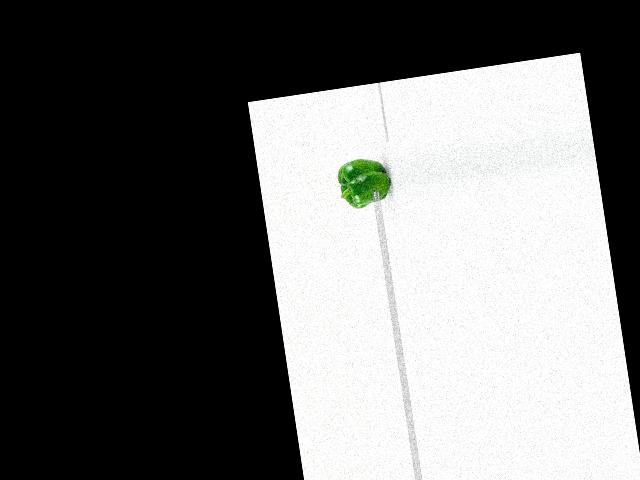bell_pepper: (332, 152, 395, 210)
